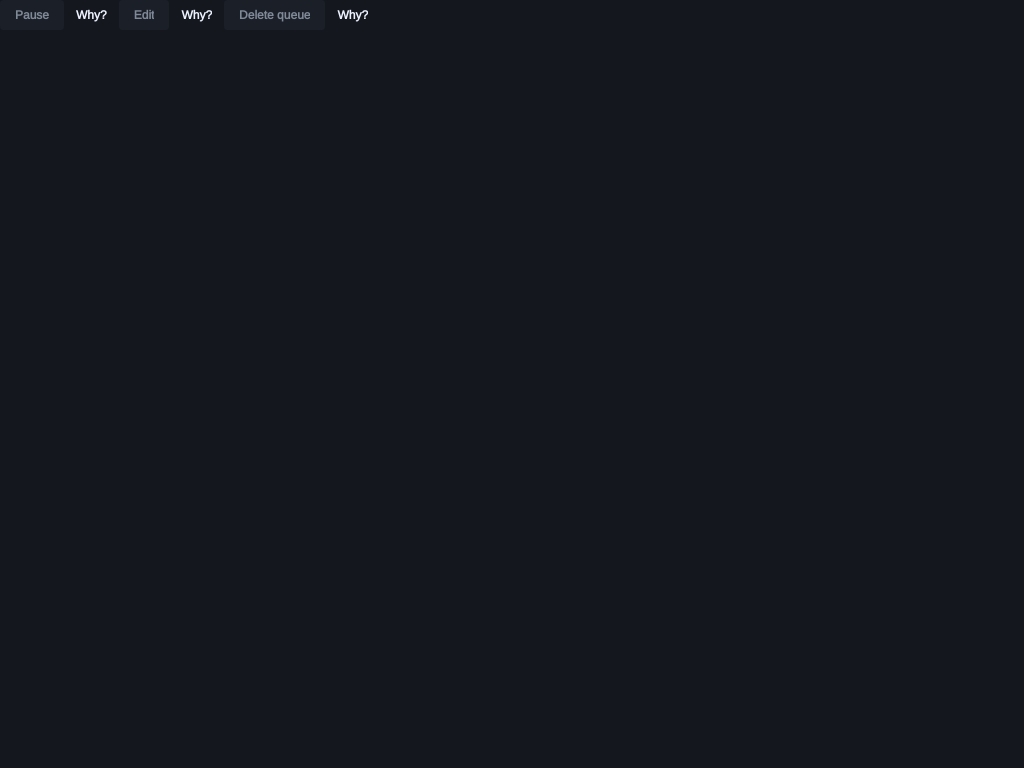
Test: QueueLifecycleActions capability gating › keeps the action visible but disabled, with the reason, when the capability is refused
The width and height of the screenshot is (1024, 768).
Expected: the button "Delete queue" is disabled, [224,0,326,30]
Click the button with aria-label "Why deleting this queue is unavailable": (353, 15) [330,3,376,27]
(page scrolled)
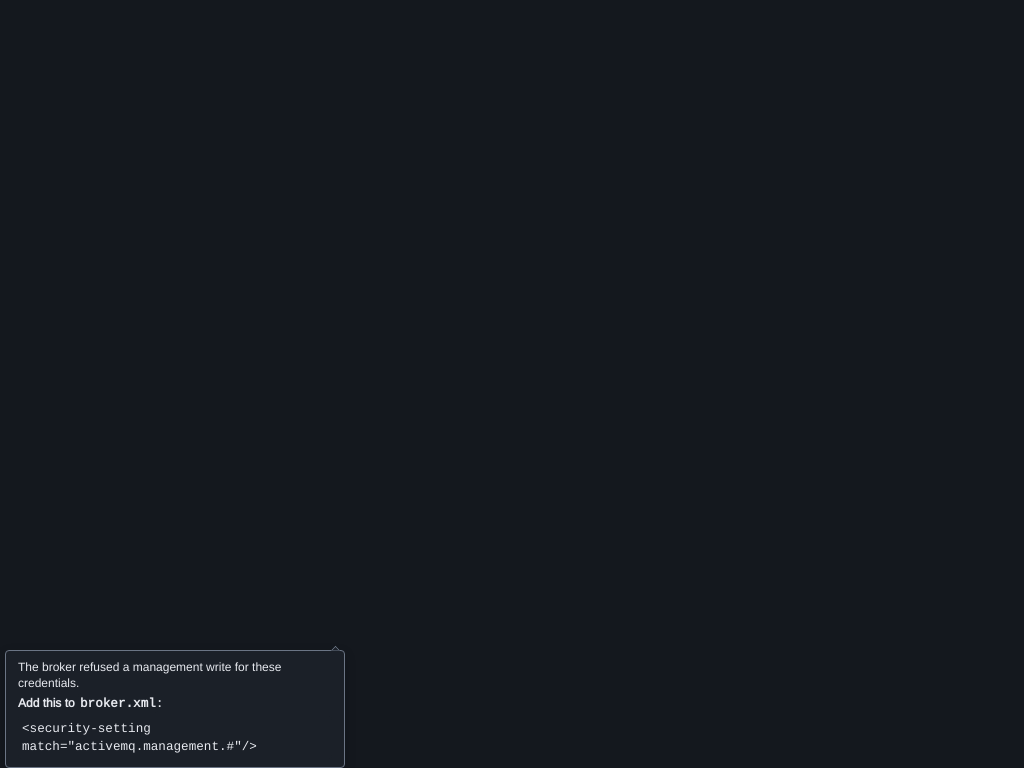
Result: the text "The broker refused a management write for these credentials." is shown at [18,658,282,691]
Result: the text "<security-setting match=\"activemq.management.#\"/>" is shown at [18,716,332,759]
